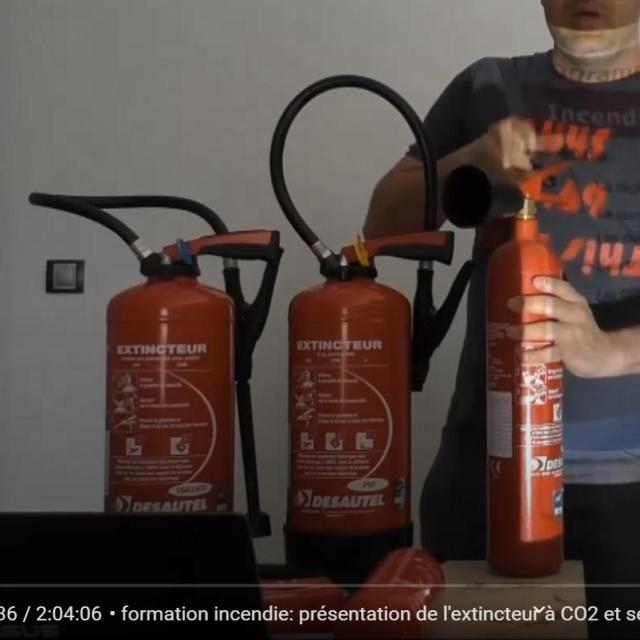fire_extinguisher: (19, 180, 286, 580), (263, 66, 456, 604), (435, 150, 573, 582)
